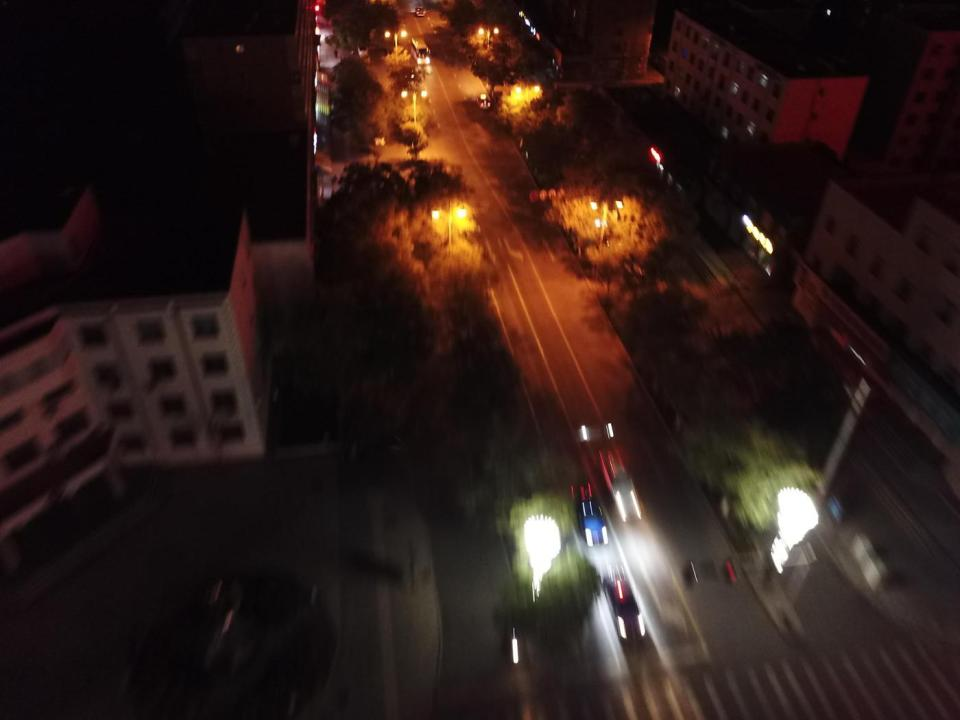bus: (411, 37, 430, 64)
car: (581, 422, 643, 523), (603, 571, 646, 643), (570, 482, 609, 547), (374, 126, 385, 147), (476, 94, 490, 108), (357, 43, 368, 56), (416, 6, 424, 17)
